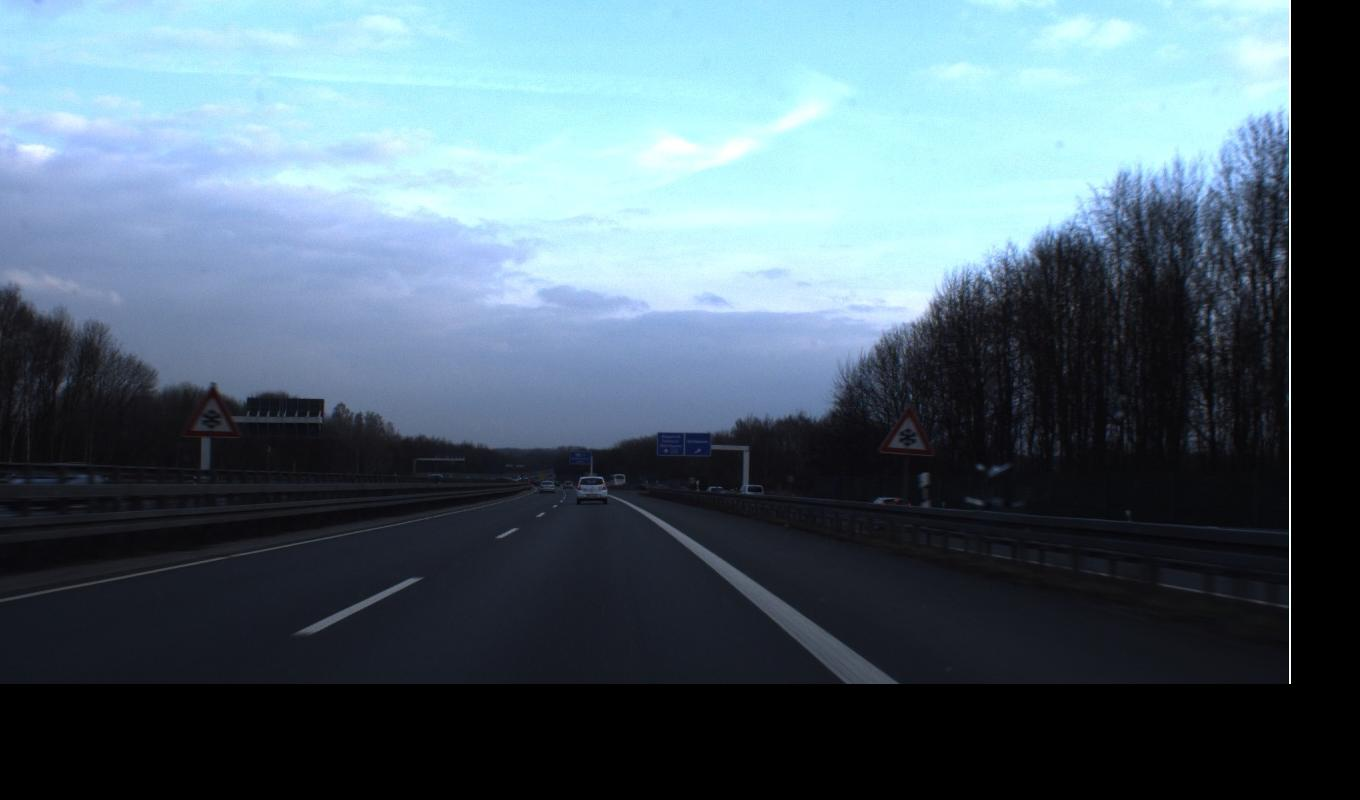snow: (180, 383, 935, 457)
